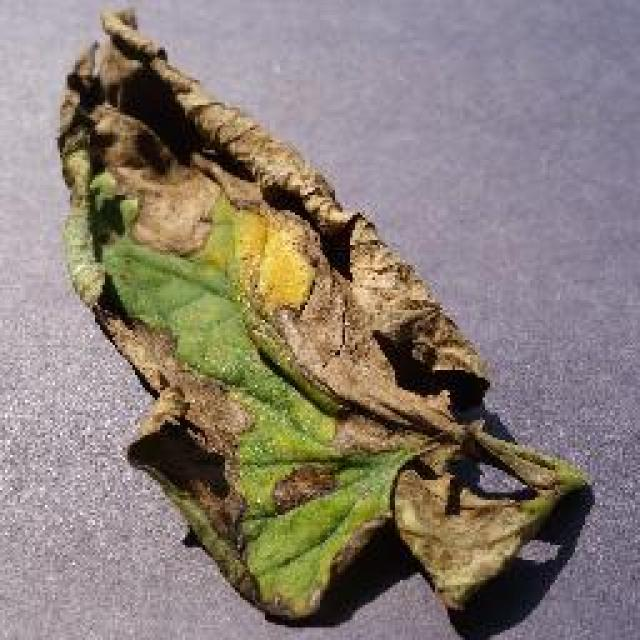leaf blight: (58, 12, 592, 624)
